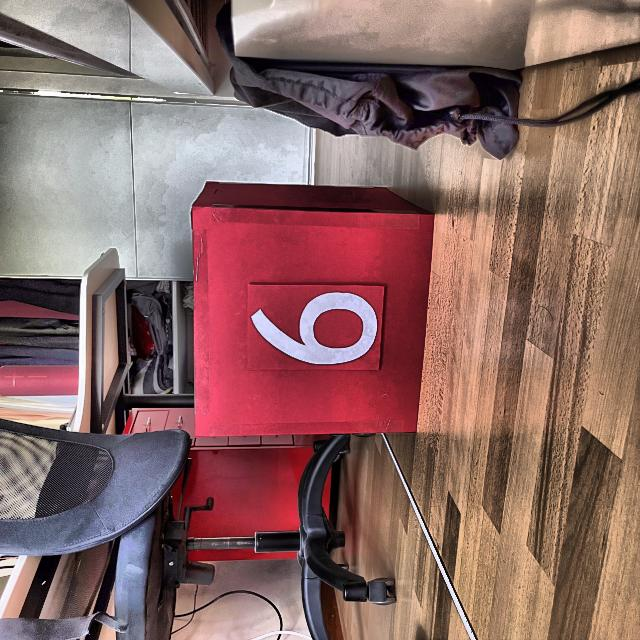red box: (187, 178, 436, 434)
six: (250, 292, 384, 368)
